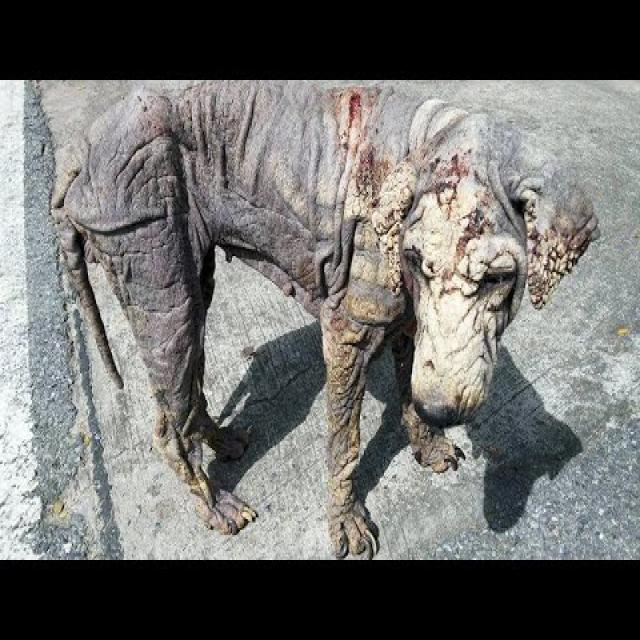nhiem nam (cho): (58, 80, 578, 561)
